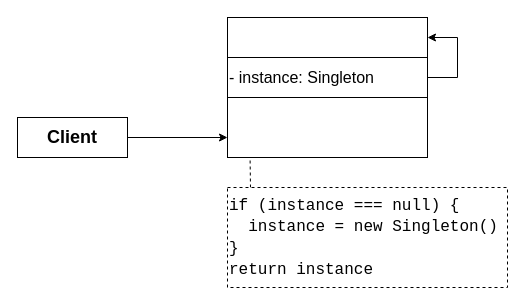
Some shapes in this 525 by 305 pixel diagram are drawn without their labels. The centre of each missing label's shape, as x and y in pixels:
"- Singleton() + getInstance(): Singleton" belongs at pixel 327 127.
"Singleton" belongs at pixel 327 37.
